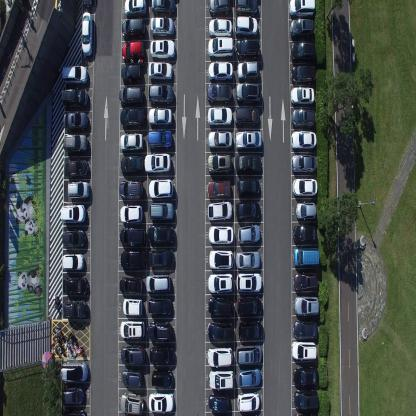car: (146, 223, 175, 245), (144, 153, 172, 175), (206, 296, 232, 319), (120, 248, 146, 271), (293, 247, 319, 270), (148, 178, 174, 201), (60, 203, 86, 226), (147, 129, 173, 152), (291, 177, 317, 200), (207, 36, 233, 59), (235, 272, 262, 294), (290, 128, 317, 150), (234, 131, 262, 152), (120, 392, 144, 416), (207, 199, 232, 222), (235, 153, 260, 176), (119, 179, 144, 202), (235, 37, 260, 60), (146, 320, 172, 342), (206, 272, 232, 294), (236, 344, 262, 366), (206, 346, 232, 368), (120, 226, 146, 248), (148, 391, 174, 413), (62, 86, 88, 108), (236, 81, 262, 103), (206, 82, 232, 104), (148, 84, 174, 106), (150, 38, 176, 60), (149, 15, 175, 37), (61, 64, 88, 85), (81, 10, 93, 57), (292, 224, 316, 247), (235, 200, 260, 222), (149, 200, 174, 222), (207, 154, 232, 176), (207, 130, 232, 152), (149, 344, 174, 366), (64, 156, 89, 178), (120, 107, 145, 129), (208, 60, 233, 82), (294, 388, 319, 410), (237, 320, 263, 341), (293, 272, 319, 293), (62, 275, 88, 296), (118, 86, 144, 107), (290, 41, 316, 62), (293, 367, 319, 388), (206, 320, 233, 340), (60, 363, 88, 382), (209, 248, 233, 270), (294, 297, 318, 319), (236, 177, 260, 199), (148, 60, 172, 82), (121, 16, 145, 38), (290, 18, 314, 40), (120, 345, 145, 366), (208, 223, 233, 244), (207, 106, 232, 127), (235, 105, 260, 126), (148, 247, 174, 267), (144, 273, 170, 293), (208, 370, 234, 390), (291, 340, 317, 360), (119, 320, 146, 339), (61, 385, 83, 408), (237, 223, 260, 245), (237, 390, 260, 412), (121, 40, 144, 62), (119, 203, 143, 224), (150, 368, 174, 389), (63, 109, 87, 130), (148, 106, 172, 127), (291, 107, 315, 128), (290, 86, 314, 107), (234, 15, 258, 36), (235, 250, 260, 270), (237, 296, 262, 316), (62, 300, 87, 320), (291, 153, 316, 173), (291, 64, 316, 84), (207, 16, 232, 36), (62, 132, 88, 151), (148, 297, 172, 317), (238, 368, 262, 388), (62, 229, 86, 249), (120, 134, 145, 153), (289, 0, 314, 19), (294, 201, 316, 222), (122, 367, 143, 389), (121, 62, 142, 84), (207, 179, 230, 199), (121, 156, 144, 176), (119, 277, 143, 296), (293, 322, 317, 341), (122, 297, 143, 318), (238, 60, 260, 80), (62, 252, 85, 271), (67, 180, 90, 199), (209, 392, 230, 412), (208, 0, 231, 16), (150, 0, 176, 14), (235, 0, 258, 15), (124, 0, 146, 15), (62, 408, 86, 416), (82, 0, 94, 11)
